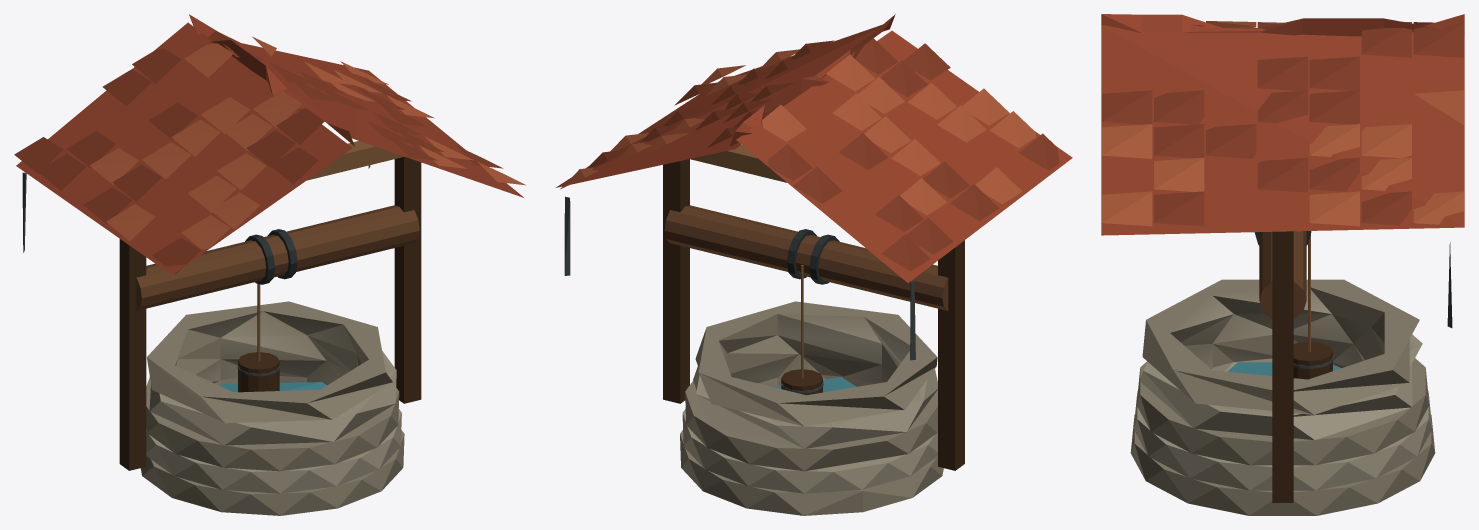
Rendered from well.glb.
The picture shows the model from 3 angles, left to right: view 1: azimuth 30°, elevation 25°; view 2: azimuth 150°, elevation 25°; view 3: azimuth 270°, elevation 25°; orthographic projection. The views are drawn at different scales.
Bounding box in the file's own units: 1.84 × 1.9 × 1.43.
